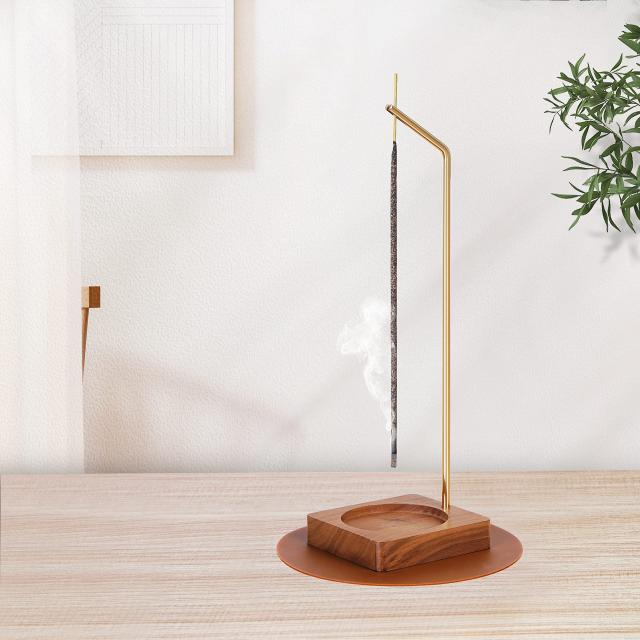Agarbatti: (372, 55, 417, 474)
